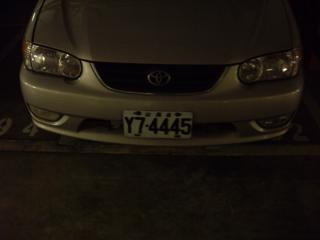plate: (121, 107, 194, 141)
